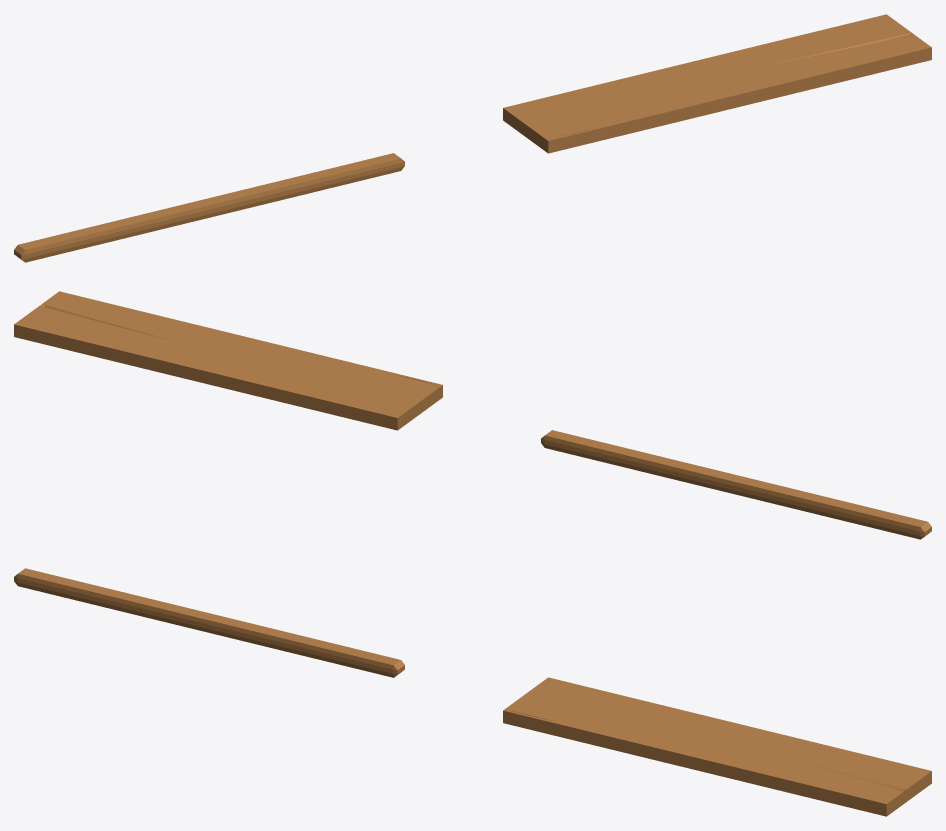
Rendered from Lumber.fbx.
The picture shows the model from 3 angles, top to bottom: view 1: azimuth 30°, elevation 25°; view 2: azimuth 150°, elevation 25°; view 3: azimuth 330°, elevation 25°; orthographic projection.
Parts seen in each view (by area): view 1: Lumber, Pole; view 2: Lumber, Pole; view 3: Lumber, Pole.
Boxes of the visible parts, x1,y1,x2,y2 form: Lumber: (503,14,931,153); Pole: (14,153,404,262); Lumber: (14,291,442,430); Pole: (541,430,931,539); Lumber: (503,677,931,816); Pole: (14,568,404,677).
Bounding box in the file's own units: 22.7 × 0.3046 × 2.
